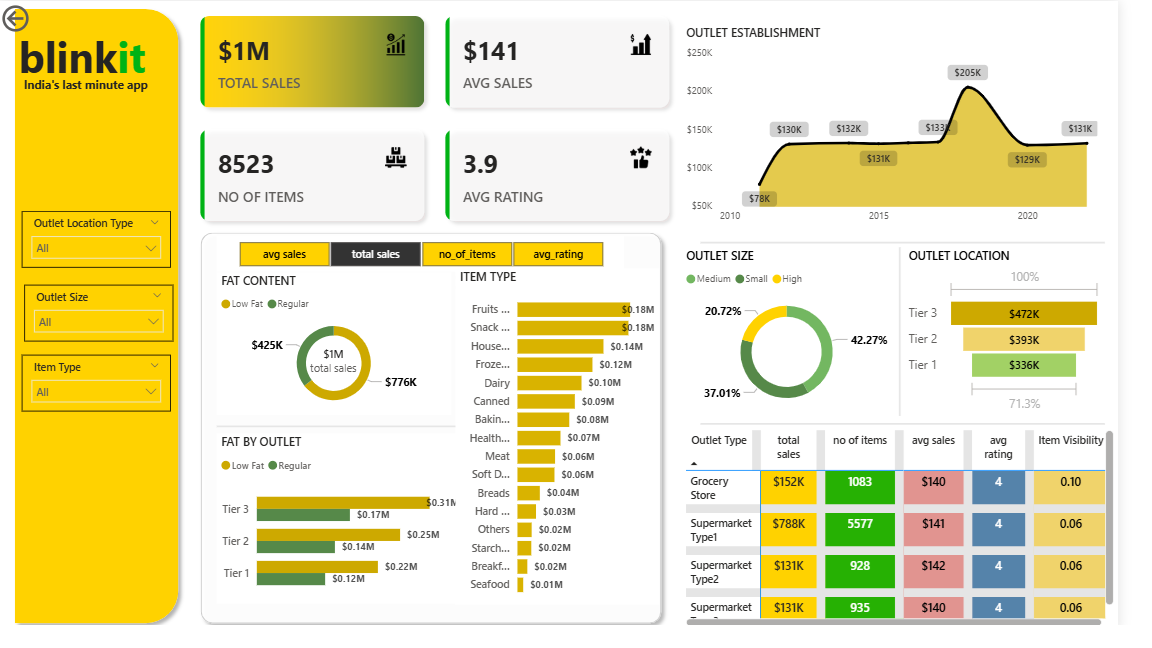

The page's visual inventory and layout, read from the dashboard file:
{"tool":"powerbi","page":{"name":"Page 1","canvas":[1280,720],"ordinal":0},"visuals":[{"type":"shape","box":[9.7,0,205.1,720.2],"z":0},{"type":"textbox","box":[262.5,0,205,720],"z":1000},{"type":"textbox","box":[19.2,26.1,172.9,76.8],"z":2000},{"type":"textbox","box":[24.7,81,175.6,42.5],"z":3000},{"type":"cardVisual","fields":{"Data":["BlinkIT Grocery Data.total sales","BlinkIT Grocery Data.avg sales","BlinkIT Grocery Data.no_of_items","BlinkIT Grocery Data.avg_rating"]},"box":[214.7,0,570.6,269],"z":4000},{"type":"shape","box":[223.2,255.8,544.1,464.5],"z":5000},{"type":"donutChart","title":"FAT CONTENT","fields":{"Y":["BlinkIT Grocery Data.total sales"],"Category":["BlinkIT Grocery Data.Item Fat Content"]},"box":[249.7,310.1,267.8,162.9],"z":6000},{"type":"slicer","fields":{"Values":["Metrics.Metrics"]},"box":[249.7,269,465.7,41],"z":7000},{"type":"cardVisual","fields":{"Data":["BlinkIT Grocery Data.total sales"]},"box":[336.6,377.6,92.9,70],"z":8000},{"type":"clusteredBarChart","title":"FAT BY OUTLET","fields":{"Y":["BlinkIT Grocery Data.total sales"],"Category":["BlinkIT Grocery Data.Outlet Location Type"],"Series":["BlinkIT Grocery Data.Item Fat Content"]},"box":[249.7,494.6,282.3,194.2],"z":9000},{"type":"shape","box":[249.7,472.9,282.3,26.5],"z":10000},{"type":"shape","box":[500.7,324.5,79.6,364.3],"z":11000},{"type":"barChart","title":"ITEM TYPE","fields":{"Y":["BlinkIT Grocery Data.total sales"],"Category":["BlinkIT Grocery Data.Item Type"]},"box":[522.4,305.2,232.8,383.6],"z":12000},{"type":"lineChart","title":"OUTLET ESTABLISHMENT","fields":{"Category":["BlinkIT Grocery Data.Outlet Establishment Year"],"Y":["BlinkIT Grocery Data.total sales"]},"box":[781.8,26.5,480.2,235.3],"z":13000},{"type":"shape","box":[803.5,263,462.1,26.5],"z":14000},{"type":"shape","box":[803.5,469.3,462.1,26.5],"z":15000},{"type":"shape","box":[944.6,281.1,172.5,193],"z":16000},{"type":"donutChart","title":"OUTLET SIZE","fields":{"Category":["BlinkIT Grocery Data.Outlet Size"],"Y":["BlinkIT Grocery Data.total sales"]},"box":[781.8,281.1,240.1,194.2],"z":17000},{"type":"funnel","title":"OUTLET LOCATION","fields":{"Category":["BlinkIT Grocery Data.Outlet Location Type"],"Y":["BlinkIT Grocery Data.total sales"]},"box":[1035.1,281.1,230.4,193],"z":18000},{"type":"actionButton","box":[0,0,100,40],"z":19000},{"type":"pivotTable","fields":{"Rows":["BlinkIT Grocery Data.Outlet Type"],"Values":["BlinkIT Grocery Data.total sales","BlinkIT Grocery Data.no_of_items","BlinkIT Grocery Data.avg sales","BlinkIT Grocery Data.avg_rating","Avg(BlinkIT Grocery Data.Item Visibility)"]},"box":[781.8,486.2,498.3,234],"z":20000},{"type":"slicer","fields":{"Values":["BlinkIT Grocery Data.Outlet Location Type"]},"box":[26.5,240.1,170.1,65.1],"z":21000},{"type":"slicer","fields":{"Values":["BlinkIT Grocery Data.Outlet Size"]},"box":[30.2,324.5,170.1,65.1],"z":22000},{"type":"slicer","fields":{"Values":["BlinkIT Grocery Data.Item Type"]},"box":[26.5,404.2,170.1,65.1],"z":22001}]}

Visuals, with their boxes in screenshot pixels (x1, y1, x2, y2), scaled from the page's 1280x720 canvas onto the 1152x648 screenshot:
shape: (9,0,193,647)
textbox: (236,0,421,647)
textbox: (17,23,173,93)
textbox: (22,73,180,111)
cardVisual - BlinkIT Grocery Data.total sales x BlinkIT Grocery Data.avg sales: (193,0,707,242)
shape: (201,230,691,647)
"FAT CONTENT" donutChart: (225,279,466,426)
slicer - Metrics.Metrics: (225,242,644,279)
cardVisual - BlinkIT Grocery Data.total sales: (303,340,387,403)
"FAT BY OUTLET" clusteredBarChart: (225,445,479,620)
shape: (225,426,479,449)
shape: (451,292,522,620)
"ITEM TYPE" barChart: (470,275,680,620)
"OUTLET ESTABLISHMENT" lineChart: (704,24,1136,236)
shape: (723,237,1139,261)
shape: (723,422,1139,446)
shape: (850,253,1005,427)
"OUTLET SIZE" donutChart: (704,253,920,428)
"OUTLET LOCATION" funnel: (932,253,1139,427)
actionButton: (0,0,90,36)
pivotTable - BlinkIT Grocery Data.Outlet Type x BlinkIT Grocery Data.total sales: (704,438,1151,647)
slicer - BlinkIT Grocery Data.Outlet Location Type: (24,216,177,275)
slicer - BlinkIT Grocery Data.Outlet Size: (27,292,180,351)
slicer - BlinkIT Grocery Data.Item Type: (24,364,177,422)
